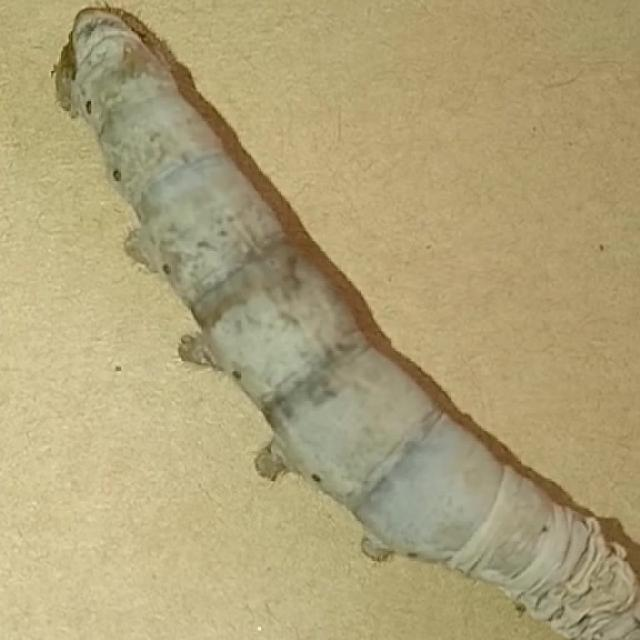Grasserie: (44, 12, 636, 638)
